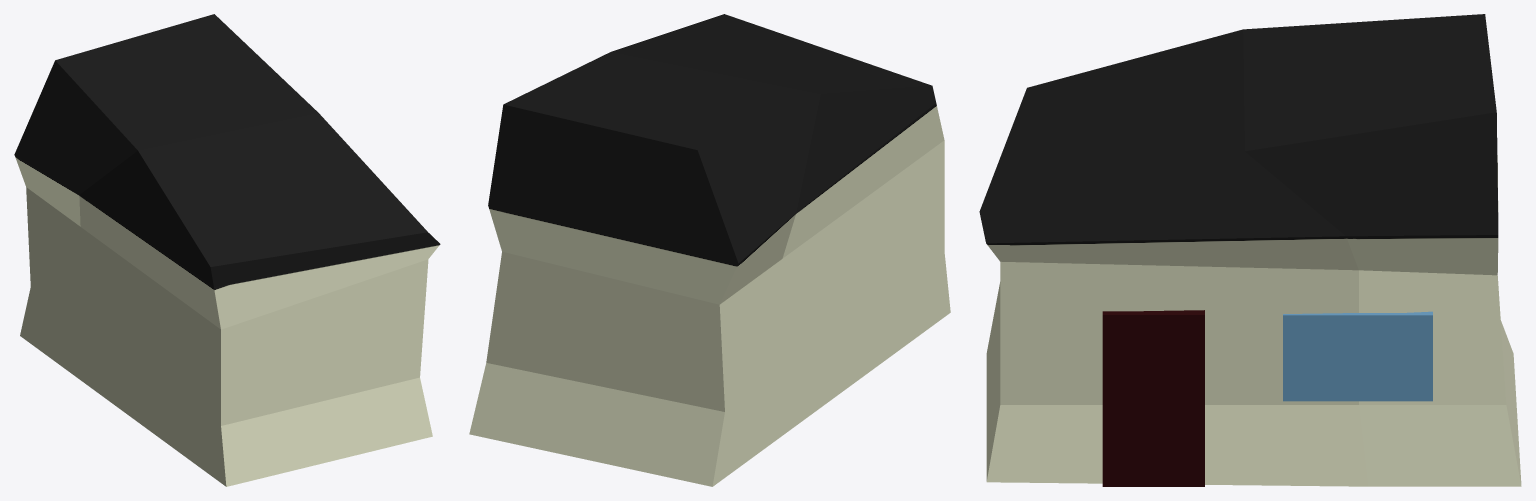
The model's file is casa_01.fbx.
3 renders of one model, left to right at view 1: azimuth 30°, elevation 25°; view 2: azimuth 150°, elevation 25°; view 3: azimuth 270°, elevation 25°, orthographic. The views are drawn at different scales.
Parts seen in each view (by area): view 1: Cube; view 2: Cube; view 3: Cube, Cube.001, Cube.002.
Boxes of the visible parts, x1,y1,x2,y2 form: Cube: [14, 14, 440, 486]; Cube: [469, 14, 950, 486]; Cube: [979, 14, 1521, 486]; Cube.001: [1102, 310, 1204, 486]; Cube.002: [1283, 311, 1432, 401].
Size of the model in its own units: 229 by 272 by 370.
Materials: 3 (1 with a texture image).
